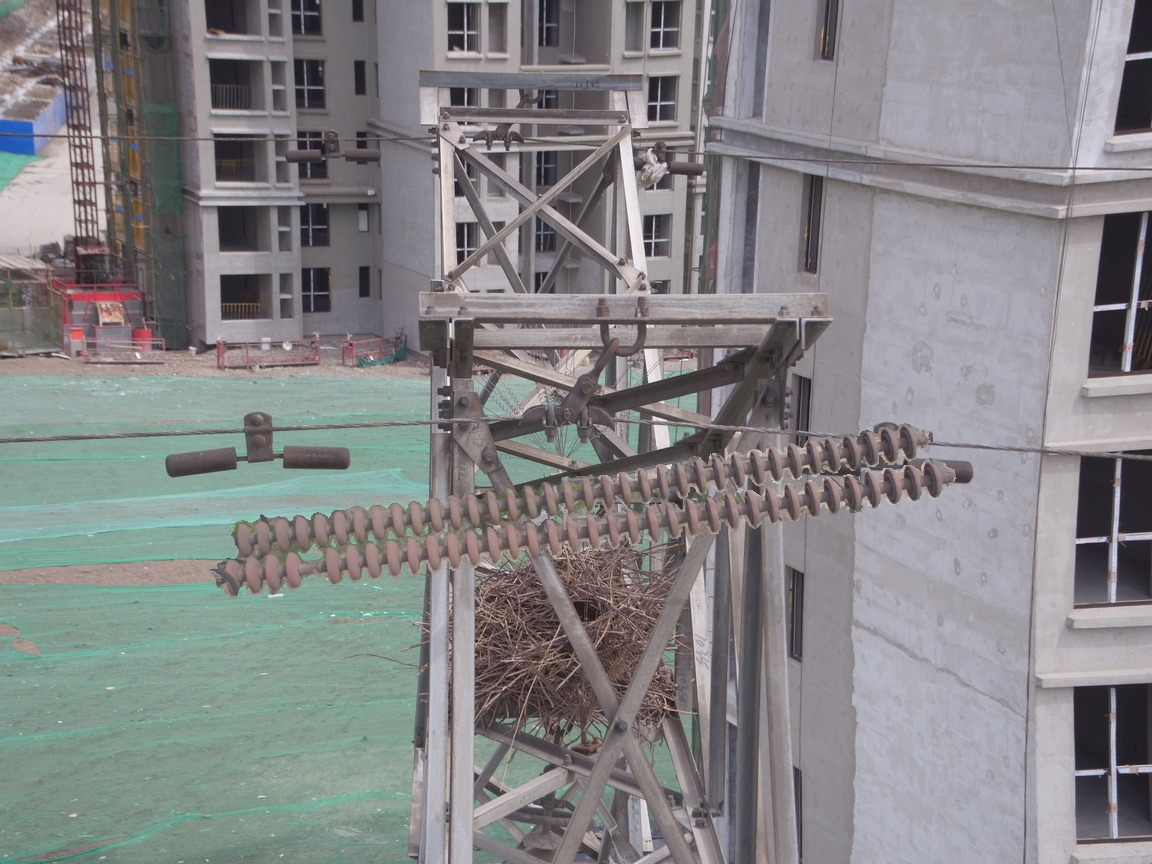defect: (280, 546, 345, 591)
